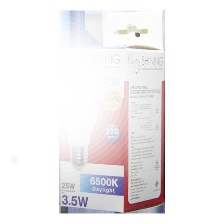carton: (51, 40, 168, 213)
